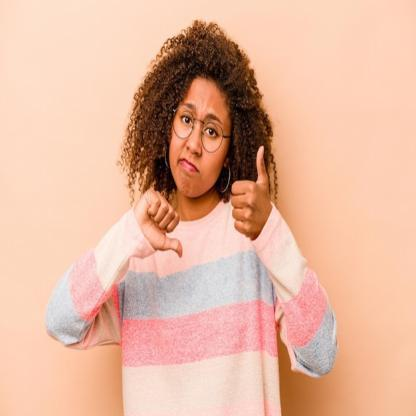thumb_down: (130, 186, 184, 262)
thumb_up: (229, 145, 273, 243)
